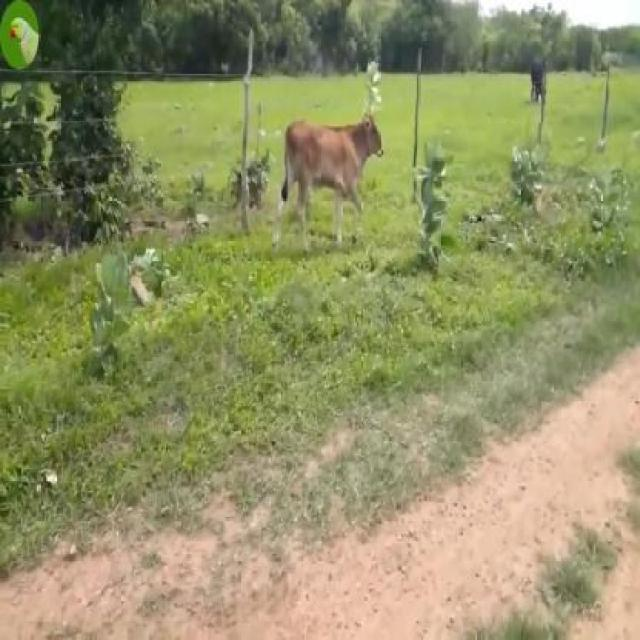Cow: (274, 115, 383, 248)
